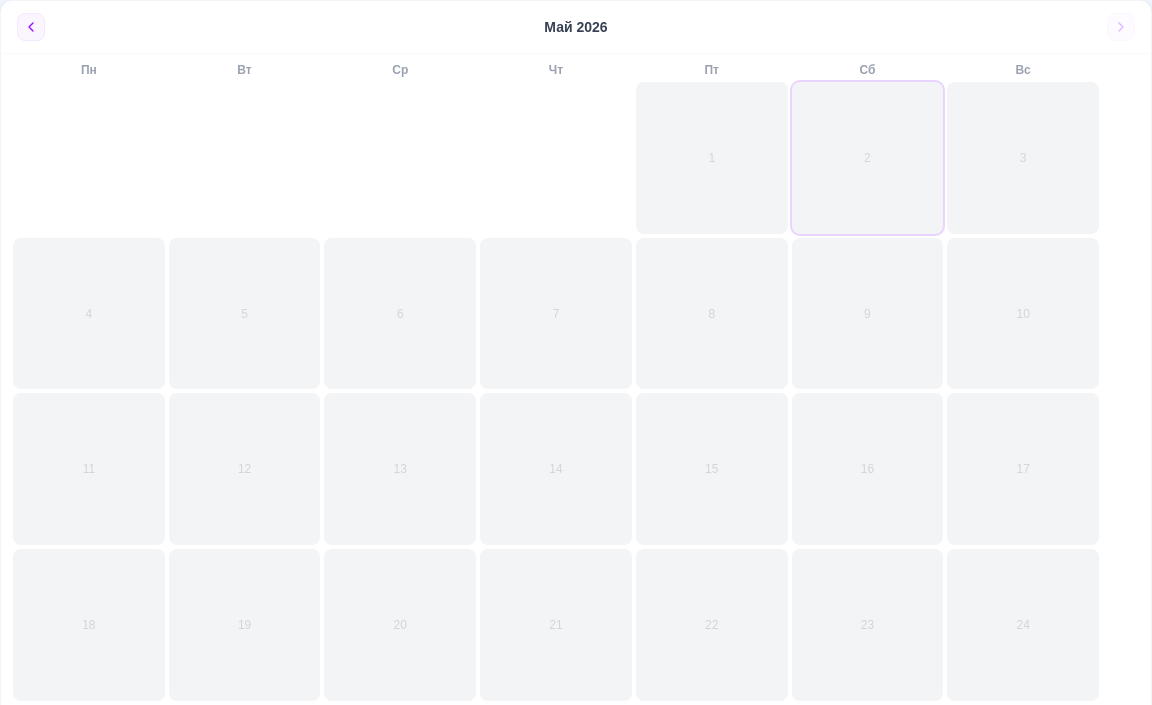
HabitDetailCalendar — weekly target counters › renders 0/3 for past week with no logs
Click the button named "предыдущий месяц" at point(31, 27), box [17,13,45,41]
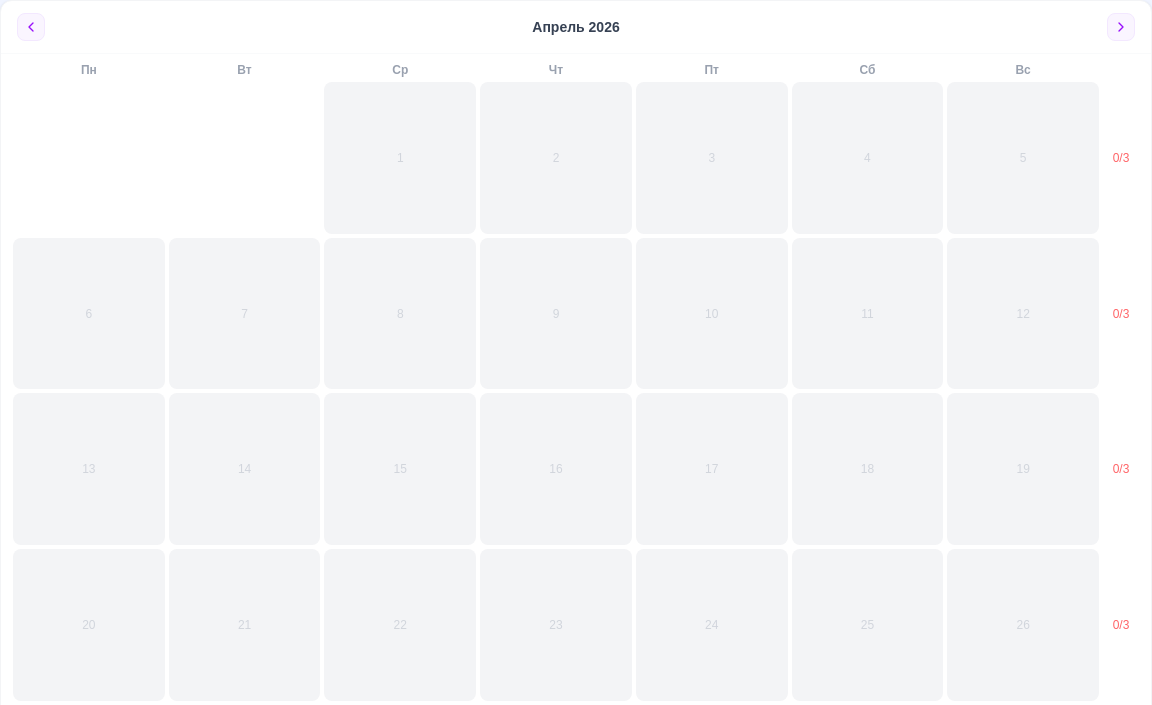
Expected: the text named "неделя 1: 0/3" is shown, [1113,151,1129,165]
